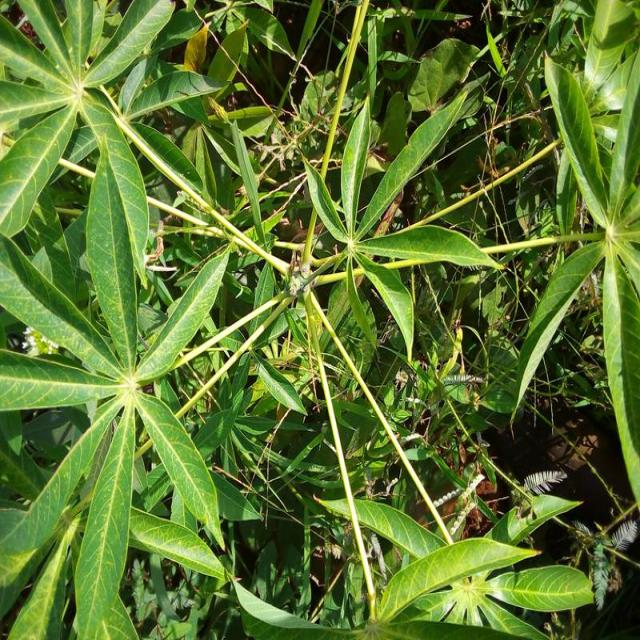cassava leaf: (0, 0, 638, 638), (83, 115, 149, 370)
